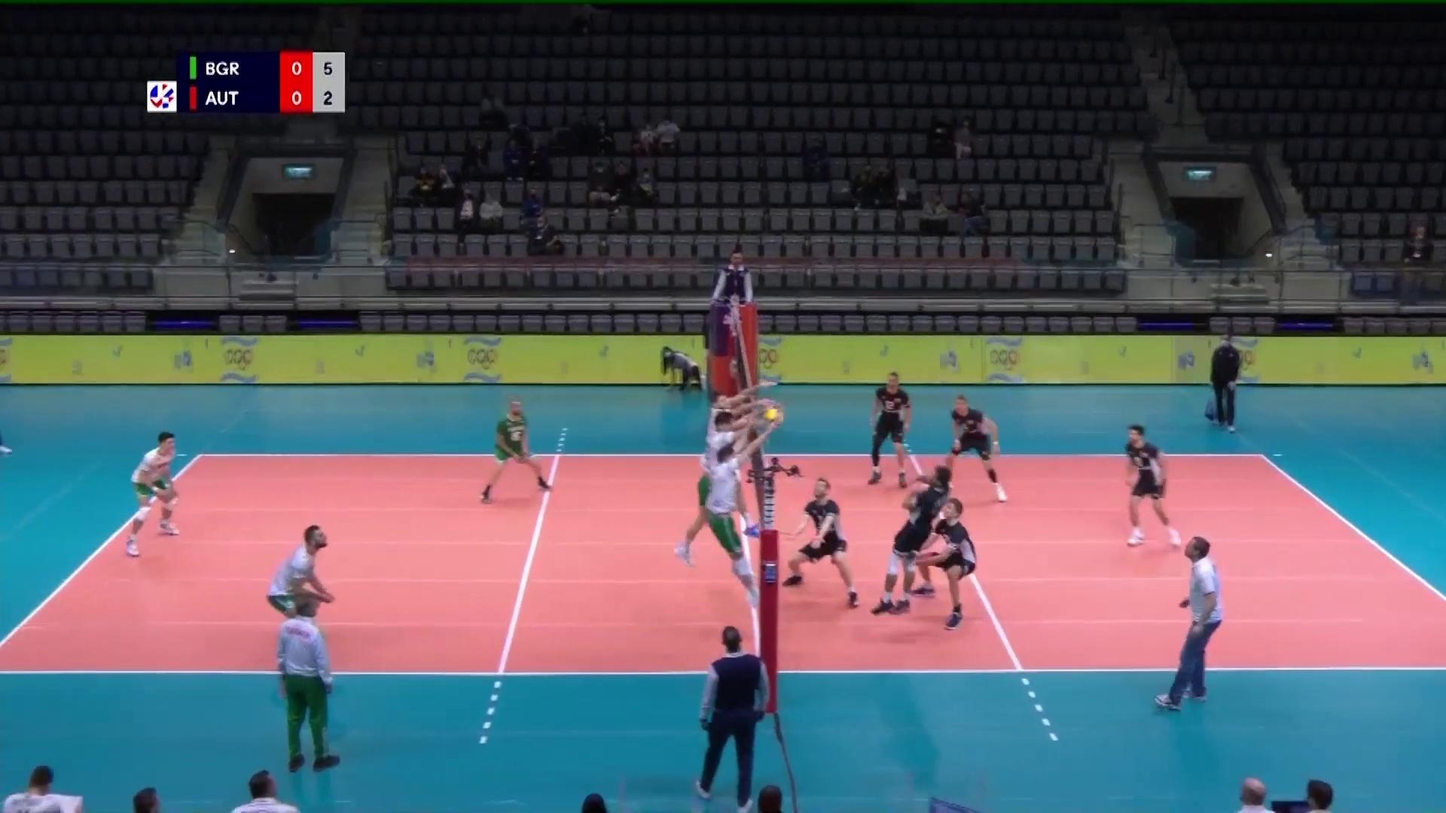ball: (765, 407, 778, 422)
